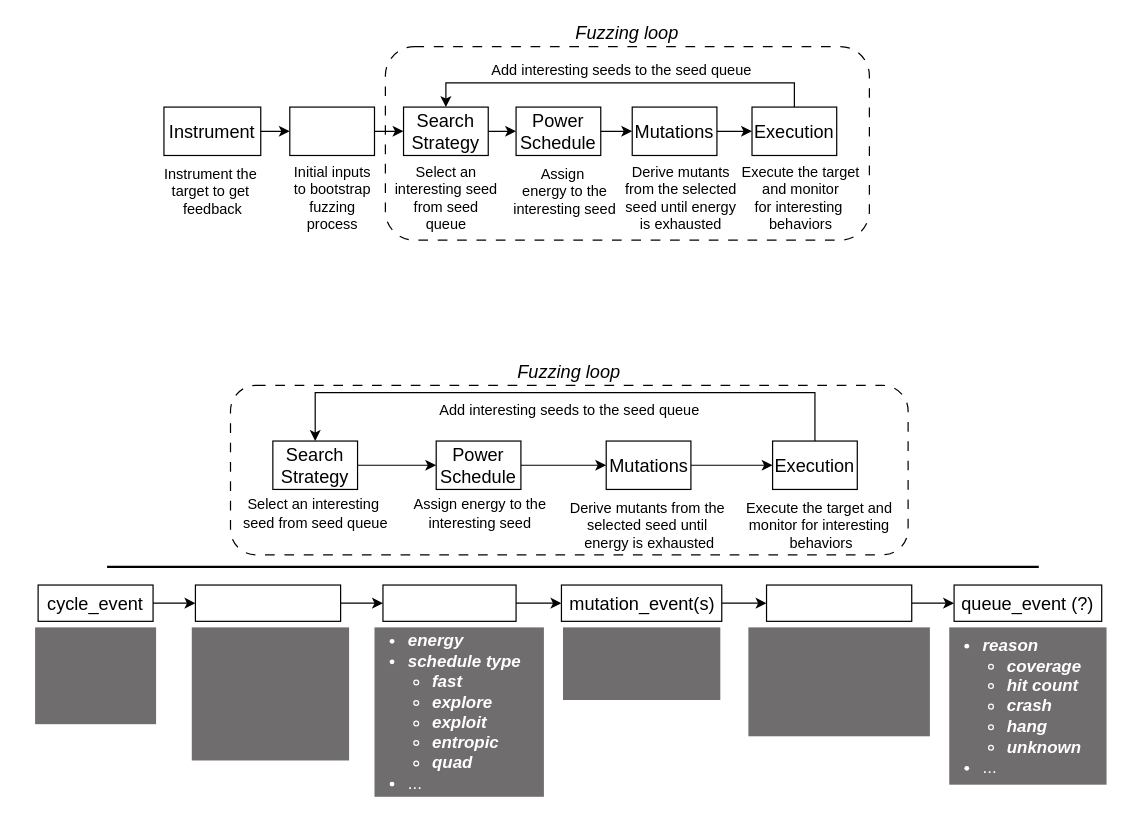
The diagram is 1128 pixels wide and 830 high, and some of its shapes have lost their labels. The centre of each missing label's shape, as x and y in pixels:
cycle start time end time ...: (94,675)
energy_event: (449,602)
execution time coverage gain bug(s) found time to exposure ...: (838,681)
execution_event: (838,602)
Initial Seeds: (331,130)
operator type depth ...: (641,663)
order strategy type sequential random favored ...: (269,693)
selection_event: (267,602)
